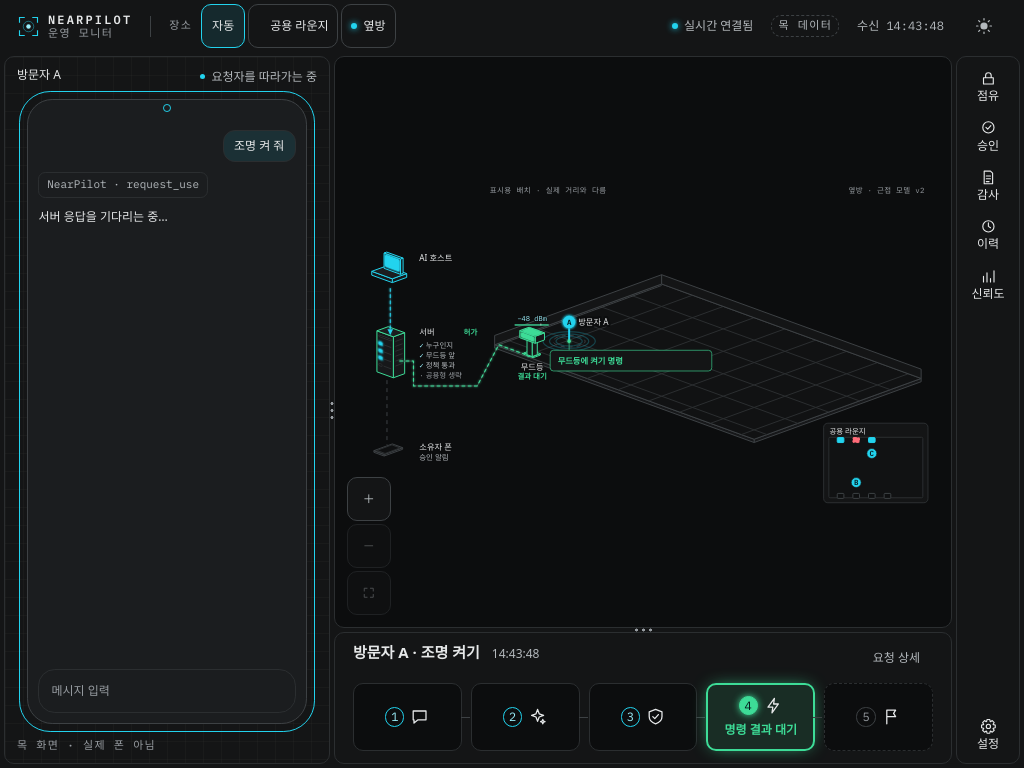
App › FR12B 라운지가 주 장소여도 패널은 옆방 기기를 이름(무드등)으로 보인다
Click the button "공용 라운지" at (293, 26), box [248,4,338,48]
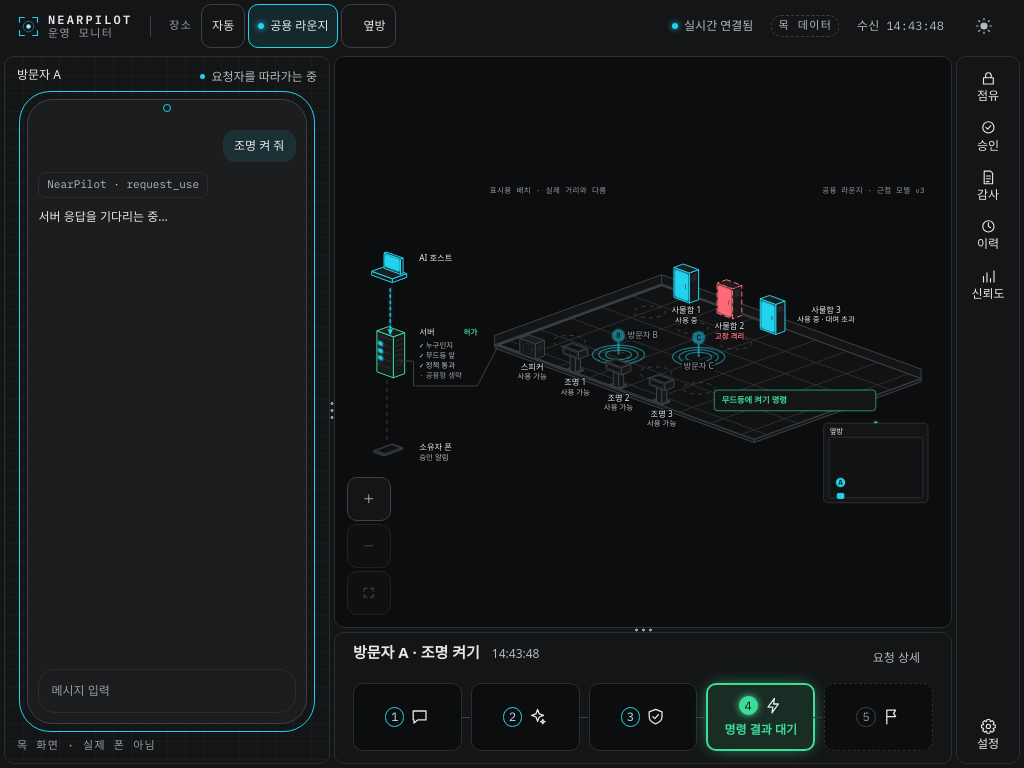
Check: the element named "공용 라운지 배치도" has attribute data-place="lounge", box [334,56,952,628]
Note: 옆방 요청의 상세: 명령 줄에 무드등이 나온다
Click the button "요청 상세" at (896, 658), box [860,636,933,680]
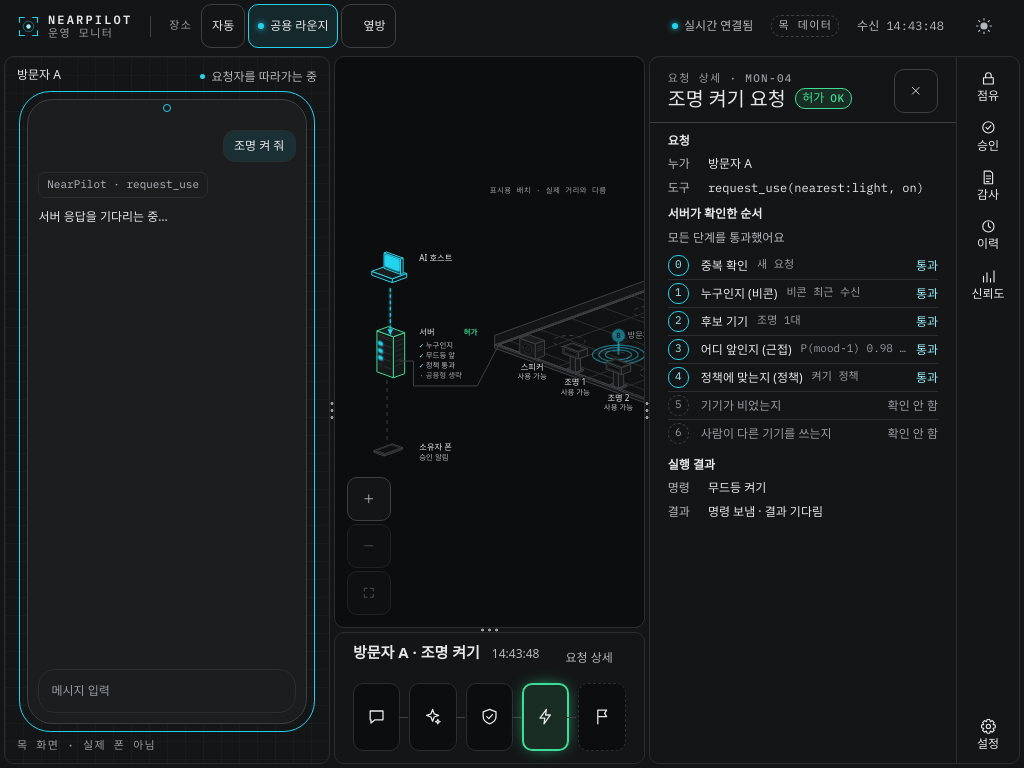
Check: the element named "조명 켜기 요청 패널" shows "무드등 켜기", box [708,479,766,496]
